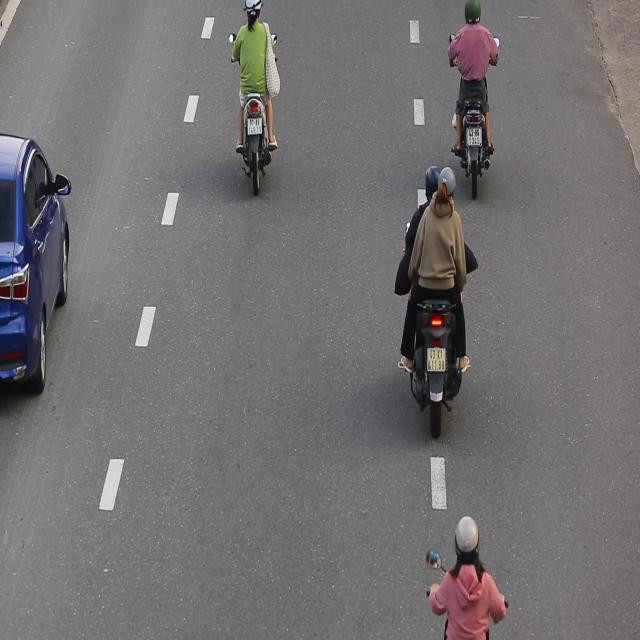motorbike: (392, 160, 479, 442), (225, 0, 281, 197), (449, 0, 503, 199)
